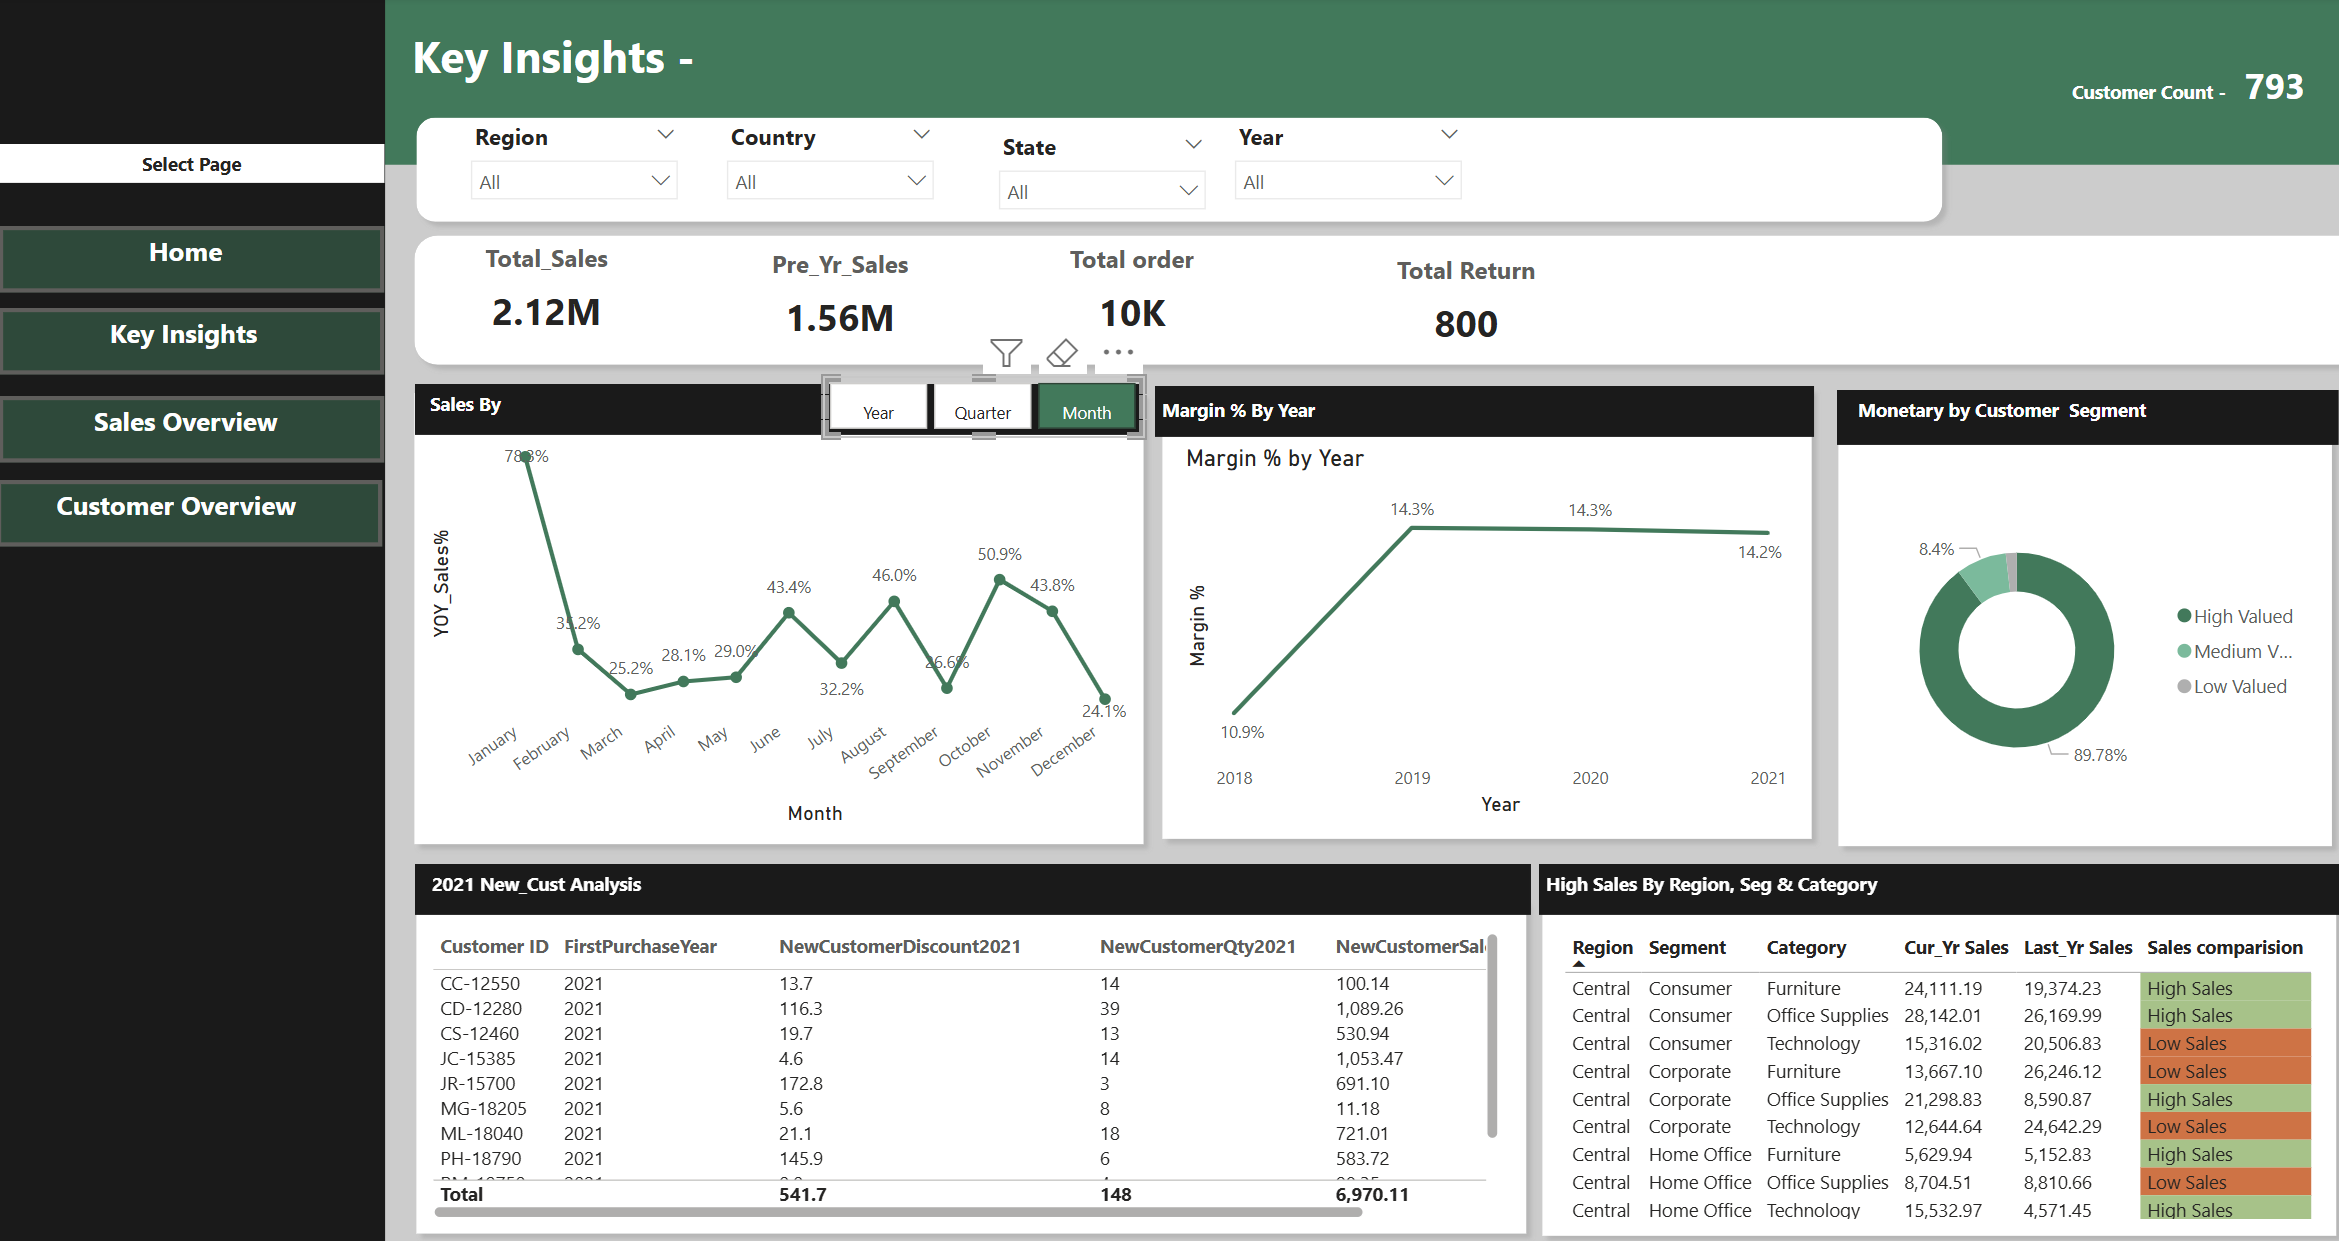

This screenshot's page, from the dashboard's own definition file:
{"tool":"powerbi","page":{"name":"Key Insights","canvas":[1720,900],"ordinal":1},"visuals":[{"type":"shape","box":[292.9,642.4,815.5,257],"z":0},{"type":"shape","box":[829.9,273.9,483.9,341.4],"z":1000},{"type":"shape","box":[291.1,277.9,541.4,340.9],"z":2000},{"type":"shape","box":[0,0,1699.4,121.6],"z":3000},{"type":"shape","box":[0,0,278,900],"z":4000},{"type":"actionButton","box":[0,225.3,277.3,47.9],"z":5000},{"type":"textbox","box":[0,107,277.3,28.2],"z":7000},{"type":"textbox","box":[12.1,225.2,242.5,48.5],"z":8000},{"type":"actionButton","box":[-0.4,288.1,277.3,47.9],"z":9000},{"type":"textbox","box":[24.3,287.6,220,52],"z":10000},{"type":"actionButton","box":[-0.8,348.3,277.3,47.9],"z":11000},{"type":"textbox","box":[11.7,347.8,232.2,50.2],"z":12000},{"type":"shape","box":[293,79.4,1115,91.6],"z":13000},{"type":"slicer","title":"Year","fields":{"Values":["Orders.Region"]},"box":[329.4,85.5,169.2,78.3],"z":14000},{"type":"slicer","title":"Year","fields":{"Values":["DateTable.Year"]},"box":[879.6,85.5,183.4,78.3],"z":15000},{"type":"slicer","title":"Year","fields":{"Values":["Orders.State"]},"box":[710.4,92.6,169.2,78.3],"z":16000},{"type":"slicer","title":"Year","fields":{"Values":["Orders.Country"]},"box":[514.6,85.5,169.2,78.3],"z":17000},{"type":"lineChart","fields":{"Category":["DateTable.Year"],"Y":["Measures_1.Margin %"]},"box":[849,323.2,441.9,272.1],"z":18000},{"type":"cardVisual","title":"Customer Count","fields":{"Data":["Count(Orders.Customer ID)"]},"box":[1600.1,22.3,99.4,63.4],"z":19000},{"type":"textbox","box":[1487,54.8,142.2,30.8],"z":20000},{"type":"textbox","box":[292.9,15.4,541.4,60],"z":21000},{"type":"shape","box":[299.4,279.4,524,36.5],"z":22000},{"type":"shape","box":[832.6,281.2,474.7,36.5],"z":23000},{"type":"shape","box":[1315.8,279.9,371.8,340.9],"z":24000},{"type":"shape","box":[1322.7,283.3,361,39.4],"z":25000},{"type":"donutChart","title":"Monetory by Customer  Segment","fields":{"Category":["rfm table.Customer Value Segment"],"Y":["Sum(rfm table.Monetory value)"]},"box":[1332.9,341.4,337.8,259.3],"z":26000},{"type":"shape","box":[290.3,164.3,1427.9,109.6],"z":27000},{"type":"cardVisual","fields":{"Data":["Measures_1.pre_yr_sales"]},"box":[527.7,164.3,157,94.9],"z":28000},{"type":"cardVisual","fields":{"Data":["Measures_1.Total_Sales"]},"box":[304.9,159.3,178.2,92.5],"z":29000},{"type":"cardVisual","fields":{"Data":["Measures_1.Total_return"]},"box":[962.3,162.5,189.9,111.4],"z":30000},{"type":"cardVisual","fields":{"Data":["Measures_1.Total_order"]},"box":[726.7,158.9,177.1,104.1],"z":31000},{"type":"textbox","box":[1332.9,283,337.8,34.7],"z":32000},{"type":"textbox","box":[832.6,283,352.4,32.9],"z":33000},{"type":"lineChart","fields":{"Category":["DateTable.Quarter"],"Y":["Measures_1.YOY_Sales%"]},"box":[304.9,312.2,511.3,288.5],"z":34000},{"type":"advancedSlicerVisual","fields":{"Values":["Parameter_sales_trend.Parameter_sales_trend"]},"box":[593.4,273.9,231.9,43.8],"z":35000},{"type":"textbox","box":[304.9,279.4,288.5,32.9],"z":36000},{"type":"shape","box":[1102.8,637.2,587.9,262.9],"z":37000},{"type":"tableEx","fields":{"Values":["Region Heads.Region","Orders.Segment","Product.Category","Measures_1.Current Year Sales","Measures_1.Last Year Sales 2020","Measures_1.Sales comparision"]},"box":[1121.1,670.1,578.8,215.5],"z":38000},{"type":"shape","box":[1108.3,624.5,576,36.5],"z":39000},{"type":"textbox","box":[1108.3,624.5,507.6,45.6],"z":40000},{"type":"tableEx","fields":{"Values":["NewCustomers2021.Customer ID","NewCustomers2021.FirstPurchaseYear","NewCustomers2021.NewCustomerDiscount2021","NewCustomers2021.NewCustomerQty2021","NewCustomers2021.NewCustomerSales2021"]},"box":[306.8,670.1,777.8,215.5],"z":41000},{"type":"shape","box":[299.4,624.5,803.4,36.5],"z":42000},{"type":"textbox","box":[306.8,624.5,403.5,47.5],"z":43000},{"type":"actionButton","box":[0.2,165.8,277.3,47.9],"z":44000},{"type":"textbox","box":[12.3,165.8,242.5,48.5],"z":45000},{"type":"actionButton","box":[11,166.2,266.6,49.3],"z":46000},{"type":"actionButton","box":[5.5,219.1,266.6,49.3],"z":47000},{"type":"actionButton","box":[1.8,286.7,266.6,49.3],"z":48000},{"type":"actionButton","box":[0,341.4,266.6,49.3],"z":49000}]}

Visuals, with their boxes on the page's 1720x900 design canvas (x1, y1, x2, y2). These are canvas units, not pixel positions in the 2339x1241 screenshot, which may show the page scaled, cropped or inside an application window:
shape: (293, 642, 1108, 899)
shape: (830, 274, 1314, 615)
shape: (291, 278, 832, 619)
shape: (0, 0, 1699, 122)
shape: (0, 0, 278, 900)
actionButton: (0, 225, 277, 273)
textbox: (0, 107, 277, 135)
textbox: (12, 225, 255, 274)
actionButton: (0, 288, 277, 336)
textbox: (24, 288, 244, 340)
actionButton: (-1, 348, 276, 396)
textbox: (12, 348, 244, 398)
shape: (293, 79, 1408, 171)
"Year" slicer: (329, 86, 499, 164)
"Year" slicer: (880, 86, 1063, 164)
"Year" slicer: (710, 93, 880, 171)
"Year" slicer: (515, 86, 684, 164)
lineChart - DateTable.Year x Measures_1.Margin %: (849, 323, 1291, 595)
"Customer Count" cardVisual: (1600, 22, 1700, 86)
textbox: (1487, 55, 1629, 86)
textbox: (293, 15, 834, 75)
shape: (299, 279, 823, 316)
shape: (833, 281, 1307, 318)
shape: (1316, 280, 1688, 621)
shape: (1323, 283, 1684, 323)
"Monetory by Customer  Segment" donutChart: (1333, 341, 1671, 601)
shape: (290, 164, 1718, 274)
cardVisual - Measures_1.pre_yr_sales: (528, 164, 685, 259)
cardVisual - Measures_1.Total_Sales: (305, 159, 483, 252)
cardVisual - Measures_1.Total_return: (962, 162, 1152, 274)
cardVisual - Measures_1.Total_order: (727, 159, 904, 263)
textbox: (1333, 283, 1671, 318)
textbox: (833, 283, 1185, 316)
lineChart - DateTable.Quarter x Measures_1.YOY_Sales%: (305, 312, 816, 601)
advancedSlicerVisual - Parameter_sales_trend.Parameter_sales_trend: (593, 274, 825, 318)
textbox: (305, 279, 593, 312)
shape: (1103, 637, 1691, 900)
tableEx - Region Heads.Region x Orders.Segment: (1121, 670, 1700, 886)
shape: (1108, 624, 1684, 661)
textbox: (1108, 624, 1616, 670)
tableEx - NewCustomers2021.Customer ID x NewCustomers2021.FirstPurchaseYear: (307, 670, 1085, 886)
shape: (299, 624, 1103, 661)
textbox: (307, 624, 710, 672)
actionButton: (0, 166, 278, 214)
textbox: (12, 166, 255, 214)
actionButton: (11, 166, 278, 216)
actionButton: (6, 219, 272, 268)
actionButton: (2, 287, 268, 336)
actionButton: (0, 341, 267, 391)
